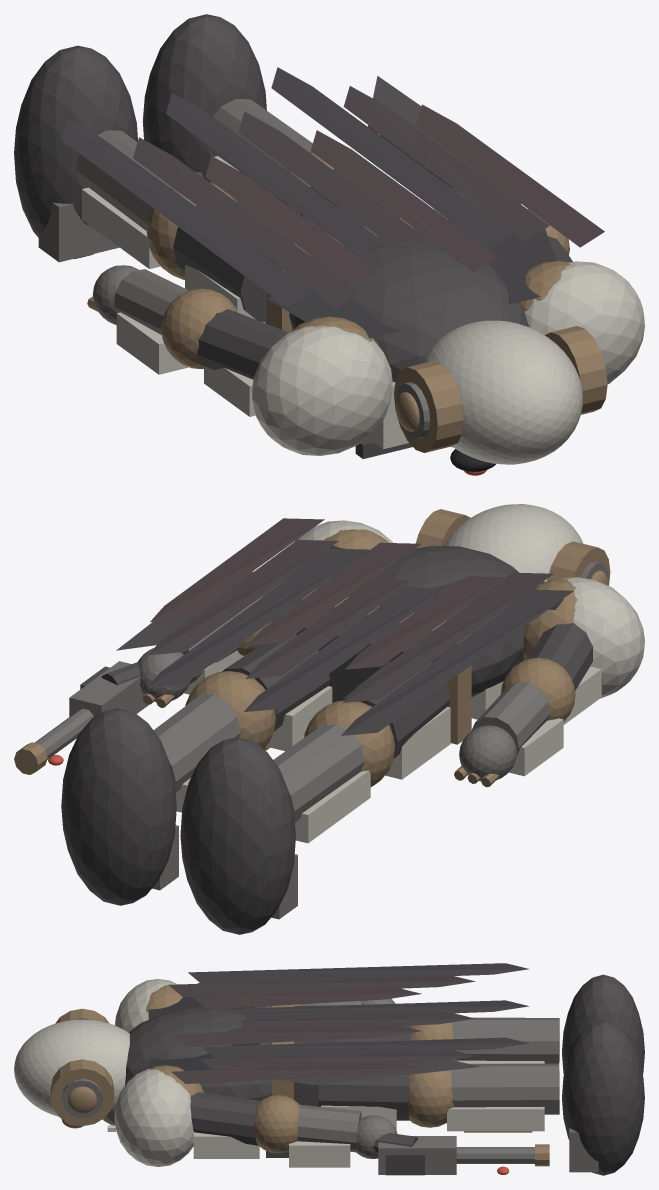
The model's file is mechanical_raider.glb.
3 views of the same model, one above another, from view 1: azimuth 30°, elevation 25°; view 2: azimuth 150°, elevation 25°; view 3: azimuth 270°, elevation 25° (orthographic). The views are drawn at different scales.
Visible parts, largest first — view 1: skull, shoulder_plate_L, boot_L, torso_frame, boot_R, cloak_tatter_00, shoulder_plate_R, cloak_tatter_06, cloak_tatter_01, cloak_tatter_03, cloak_tatter_07, cloak_tatter_08 (+26 smaller); view 2: boot_L, boot_R, cloak_tatter_00, skull, cloak_tatter_06, torso_frame, shoulder_plate_L, cloak_tatter_01, cloak_tatter_03, shin_L, cloak_tatter_07, shin_R (+32 smaller); view 3: boot_R, skull, shoulder_plate_R, torso_frame, shin_R, shin_L, cloak_tatter_00, boot_L, cloak_tatter_06, cloak_tatter_01, cloak_tatter_03, cloak_tatter_07 (+33 smaller).
Part boxes in pixels (left/top/right/bottom): skull: left=423, top=320, right=582, bottom=464; shoulder_plate_L: left=251, top=326, right=392, bottom=455; boot_L: left=14, top=45, right=137, bottom=258; torso_frame: left=289, top=236, right=529, bottom=381; boot_R: left=142, top=14, right=266, bottom=182; cloak_tatter_00: left=60, top=118, right=312, bottom=307; shoulder_plate_R: left=524, top=261, right=644, bottom=384; cloak_tatter_06: left=271, top=67, right=513, bottom=248; cloak_tatter_01: left=133, top=137, right=360, bottom=308; cloak_tatter_03: left=166, top=93, right=385, bottom=264; cloak_tatter_07: left=343, top=86, right=549, bottom=241; cloak_tatter_08: left=416, top=104, right=604, bottom=247; boot_L: left=180, top=737, right=295, bottom=934; boot_R: left=61, top=708, right=176, bottom=905; cloak_tatter_00: left=341, top=589, right=573, bottom=735; skull: left=444, top=504, right=583, bottom=581; cloak_tatter_06: left=146, top=548, right=369, bottom=688; torso_frame: left=348, top=545, right=524, bottom=696; shoulder_plate_L: left=561, top=577, right=644, bottom=698; cloak_tatter_01: left=343, top=572, right=553, bottom=702; cloak_tatter_03: left=243, top=582, right=454, bottom=712; shin_L: left=273, top=724, right=364, bottom=822; cloak_tatter_07: left=148, top=540, right=338, bottom=655; shin_R: left=153, top=694, right=240, bottom=792; boot_R: left=562, top=1020, right=644, bottom=1175; skull: left=14, top=1019, right=129, bottom=1116; shoulder_plate_R: left=114, top=1069, right=193, bottom=1166; torso_frame: left=125, top=1007, right=271, bottom=1100; shin_R: left=450, top=1063, right=559, bottom=1114; shin_L: left=452, top=1017, right=559, bottom=1063; cloak_tatter_00: left=188, top=963, right=529, bottom=983; boot_L: left=562, top=974, right=644, bottom=1074; cloak_tatter_06: left=201, top=1037, right=529, bottom=1058; cloak_tatter_01: left=168, top=975, right=475, bottom=997; cloak_tatter_03: left=221, top=1000, right=528, bottom=1019; cloak_tatter_07: left=200, top=1050, right=475, bottom=1069.
Bounding box in the file's own units: 1.48 × 0.68 × 2.58.
